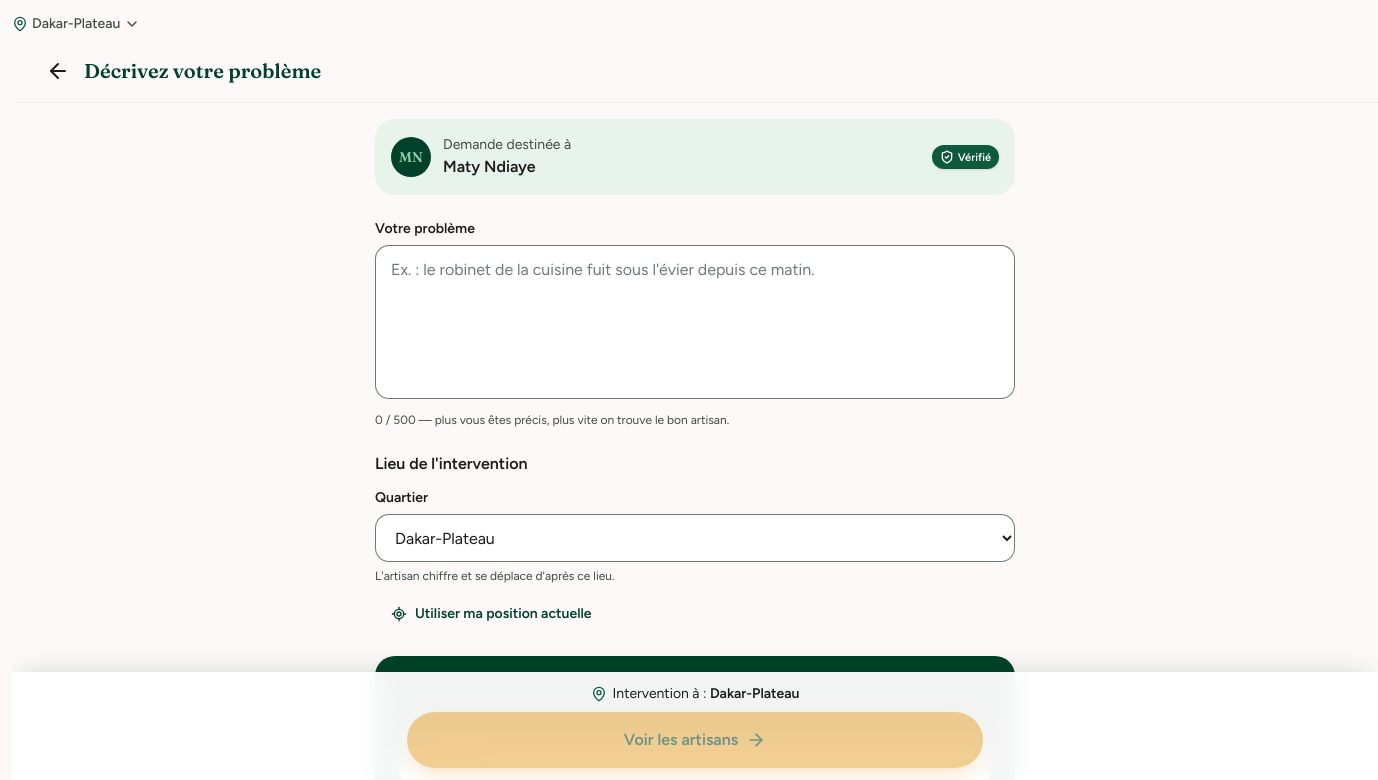
Test: DescribeProblemScreen › demande adressée depuis une fiche artisan (?artisan=) › signale un métier incompatible et revient au parcours normal (recherche)
Step 1. Replace the text in the text box labelled "Votre problème" with "Une prise ne fonctionne plus dans le salon." → (695, 322), box [375,245,1015,399]
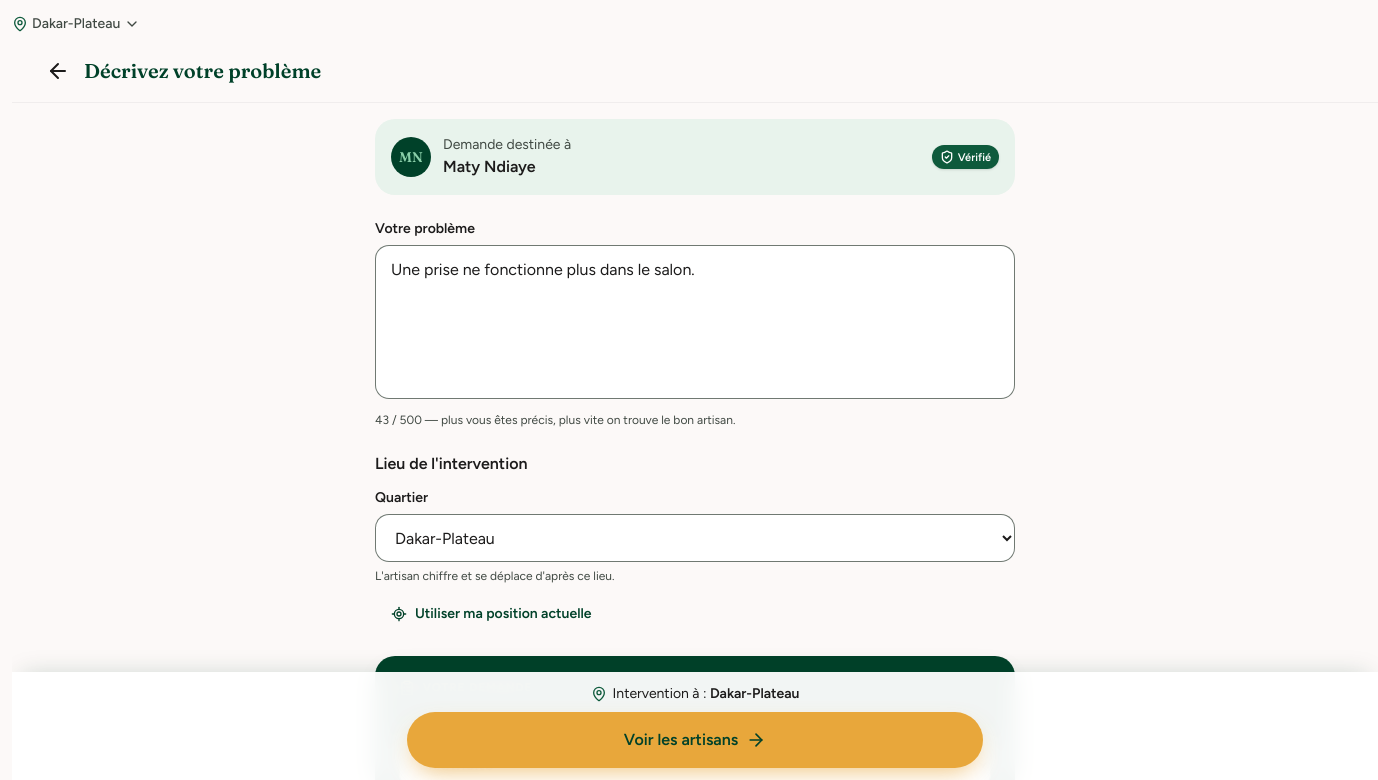
Step 2. Click the button "Voir les artisans" → (695, 740), box [407,712,983,768]
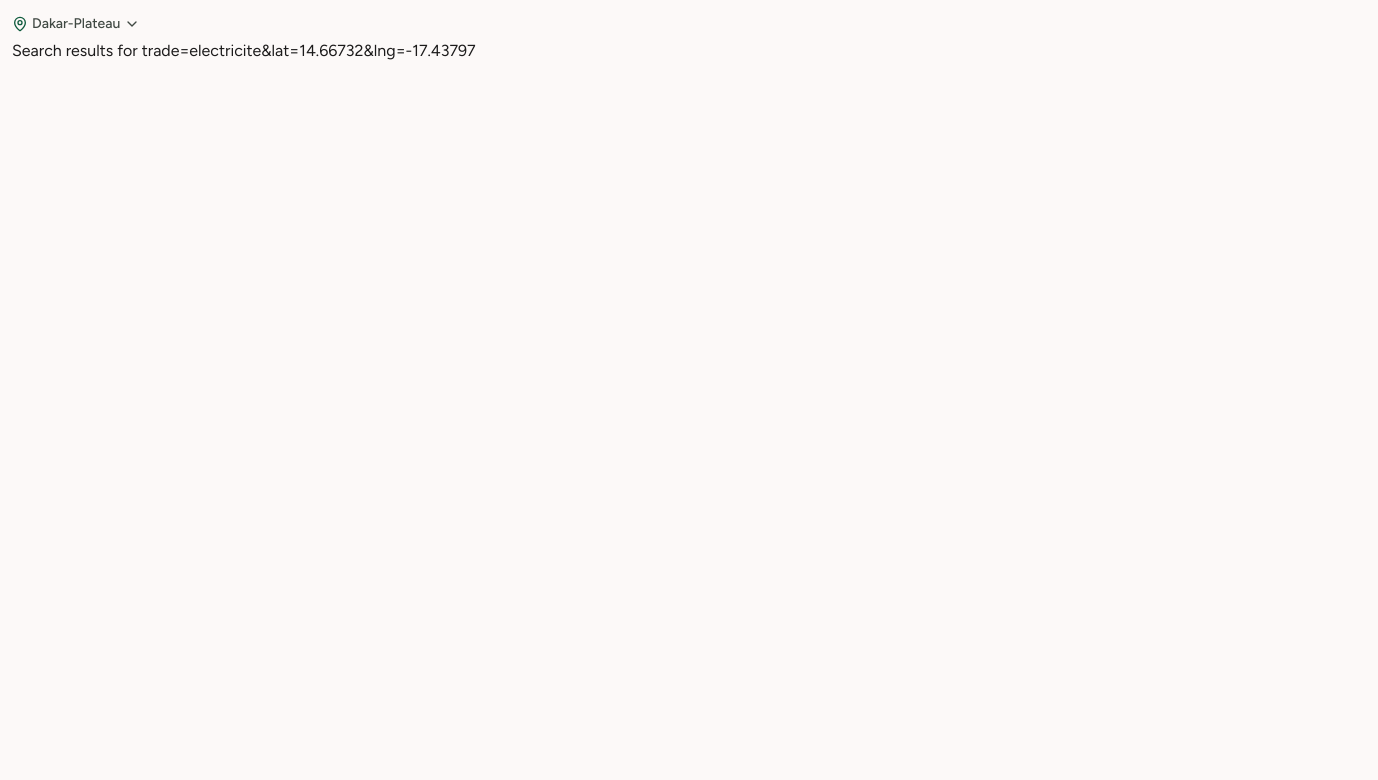
Expected: the text "Search results for" is shown, [12,41,142,60]
